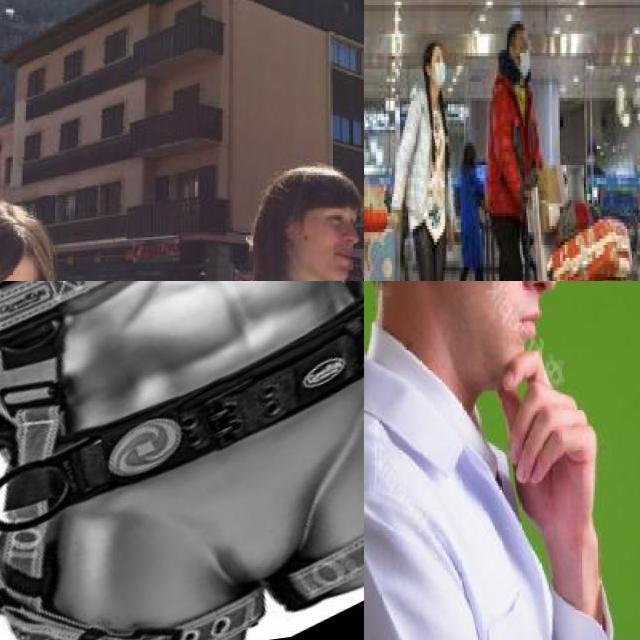Harness: (0, 281, 364, 532)
face_mask: (515, 34, 531, 75), (431, 50, 446, 88)
face_nomask: (477, 281, 563, 343), (299, 204, 363, 278)
hand_noglove: (492, 342, 606, 524)
head_nohelmet: (261, 155, 364, 203), (0, 192, 66, 263), (506, 18, 526, 43), (426, 34, 444, 56)
person: (364, 281, 628, 640), (483, 27, 540, 281), (400, 33, 456, 281), (364, 152, 387, 281)
